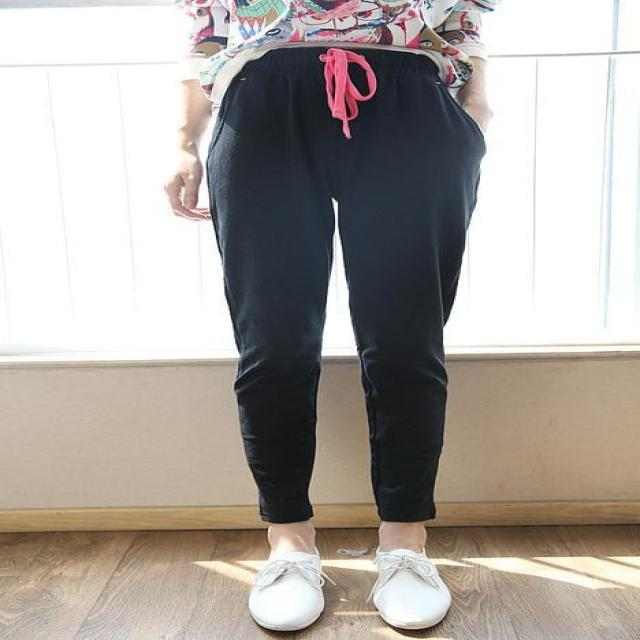long sleeve top: (178, 0, 496, 108)
trousers: (209, 48, 477, 521)
